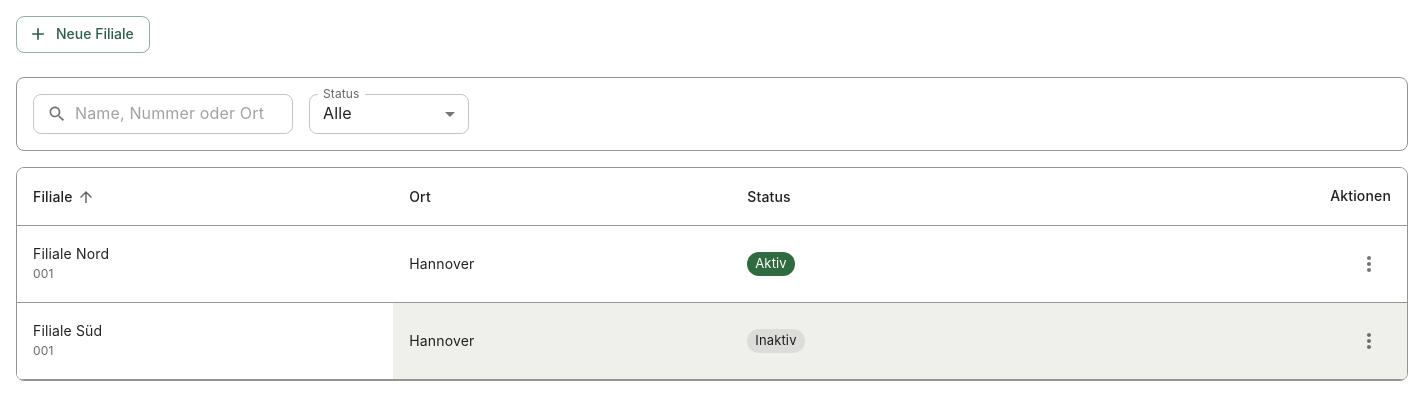
BranchMasterDataView › filters branches by status (Alle/Aktiv/Inaktiv)
Click the dropdown named "Status" at point(337, 113), box [323, 103, 352, 123]
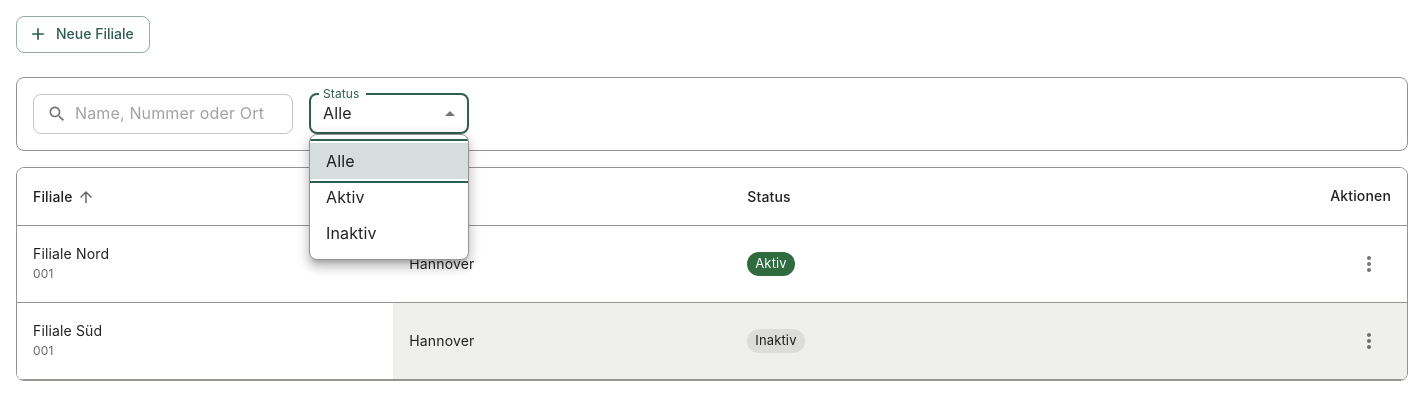
Click the option "Aktiv" at point(345, 197), box [326, 187, 365, 207]
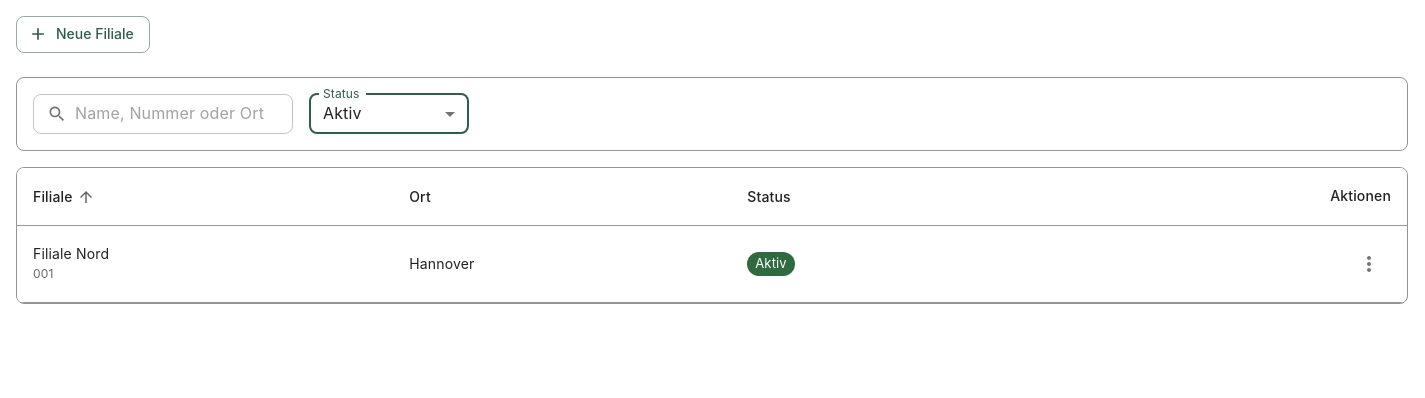
Expected: the text "Filiale Nord" is shown, [33, 245, 109, 262]
Now the text "Filiale Süd" is gone
Click the dropdown named "Status" at point(342, 113), box [323, 103, 362, 123]
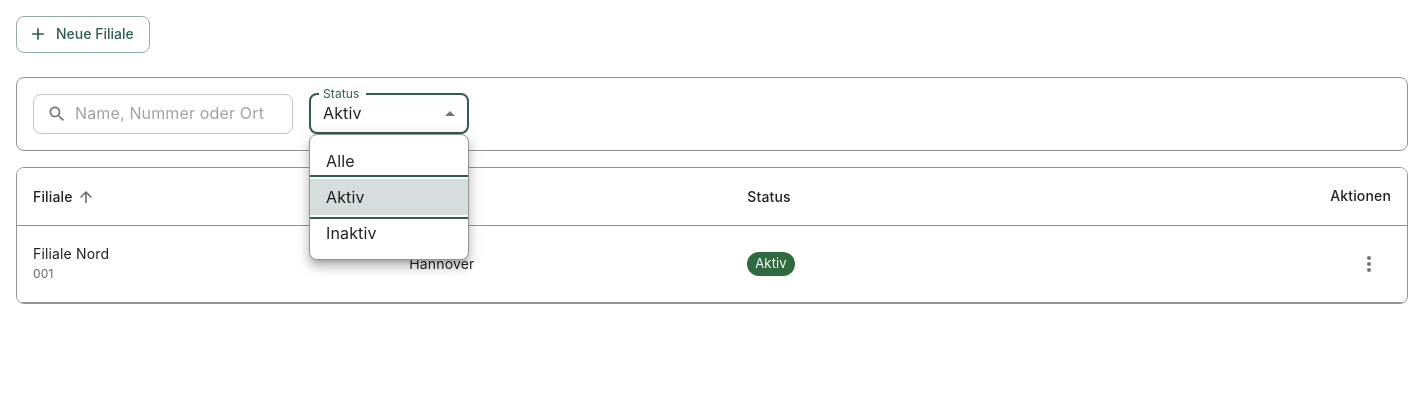
Click the option "Inaktiv" at point(351, 233), box [326, 223, 377, 243]
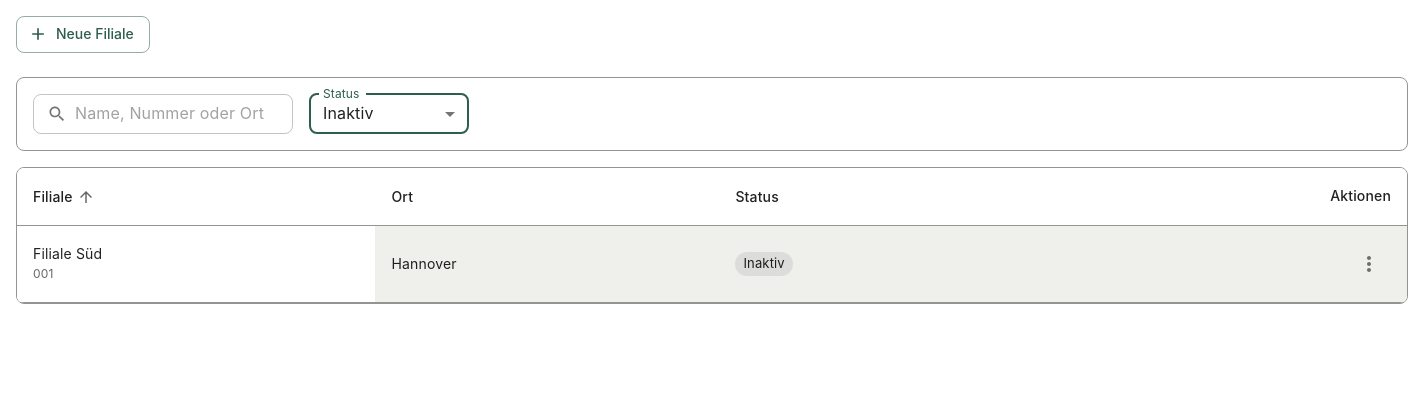
Now the text "Filiale Nord" is gone
Now the text "Filiale Süd" is shown, box [33, 245, 102, 262]
